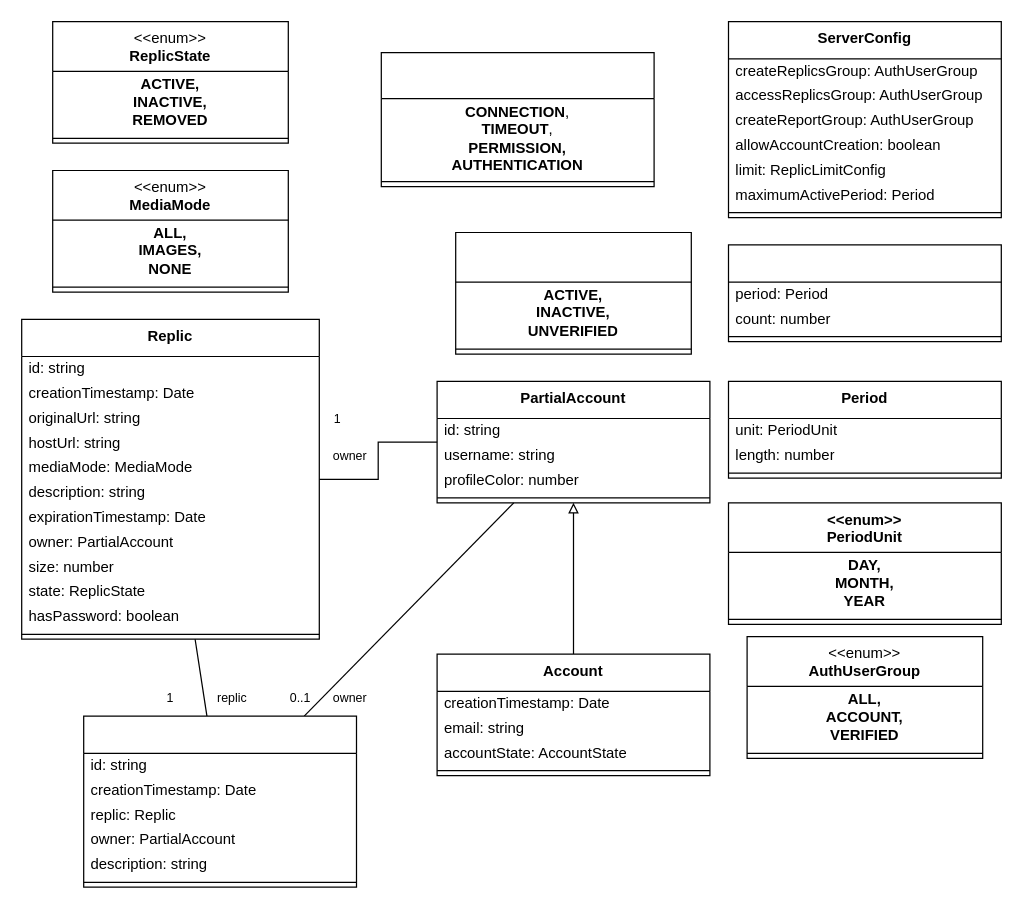
Image size: 1023x909. Some labels were removed from this diagram. The shapes that lost their labels are listed below. From the top down, each one's box as (x1, y1, x2, y2) in pixels, then its label:
(380, 51, 654, 187): <<enum>> Error
(454, 231, 691, 354): <<enum>> AccountState
(727, 244, 1001, 342): ReplicLimitConfig
(82, 715, 356, 887): Report
